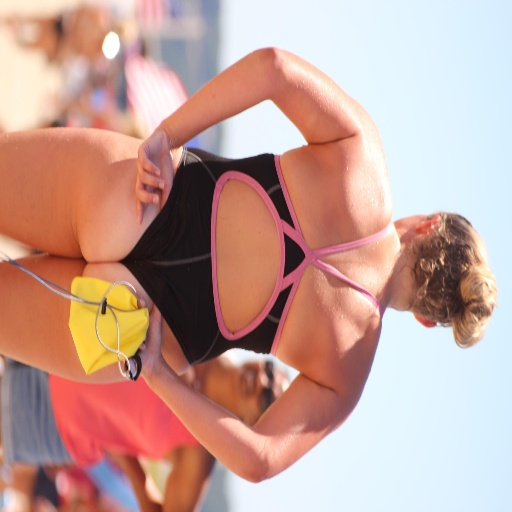hand: (120, 112, 176, 228), (123, 300, 162, 379)
